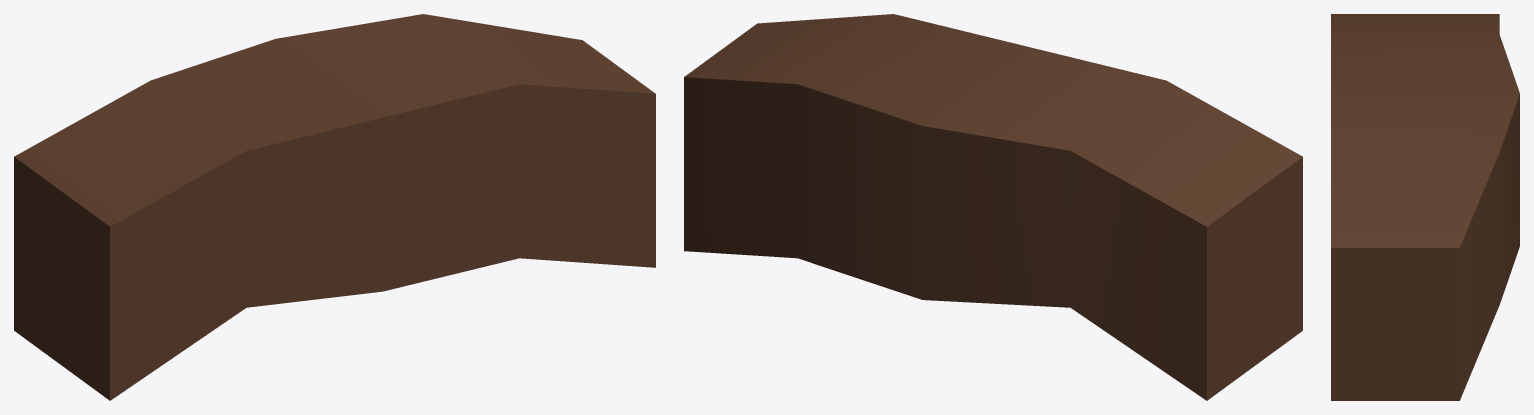
The model's file is Obstacles.fbx.
3 renders of one model, left to right at view 1: azimuth 30°, elevation 25°; view 2: azimuth 150°, elevation 25°; view 3: azimuth 270°, elevation 25°, orthographic. The views are drawn at different scales.
Visible parts, largest first — view 1: Cube; view 2: Cube; view 3: Cube.
Part boxes in pixels (<box>): Cube: <box>14,14,655,400</box>; Cube: <box>684,14,1302,400</box>; Cube: <box>1331,14,1519,400</box>.
Bounding box in the file's own units: 656 × 249 × 224.
